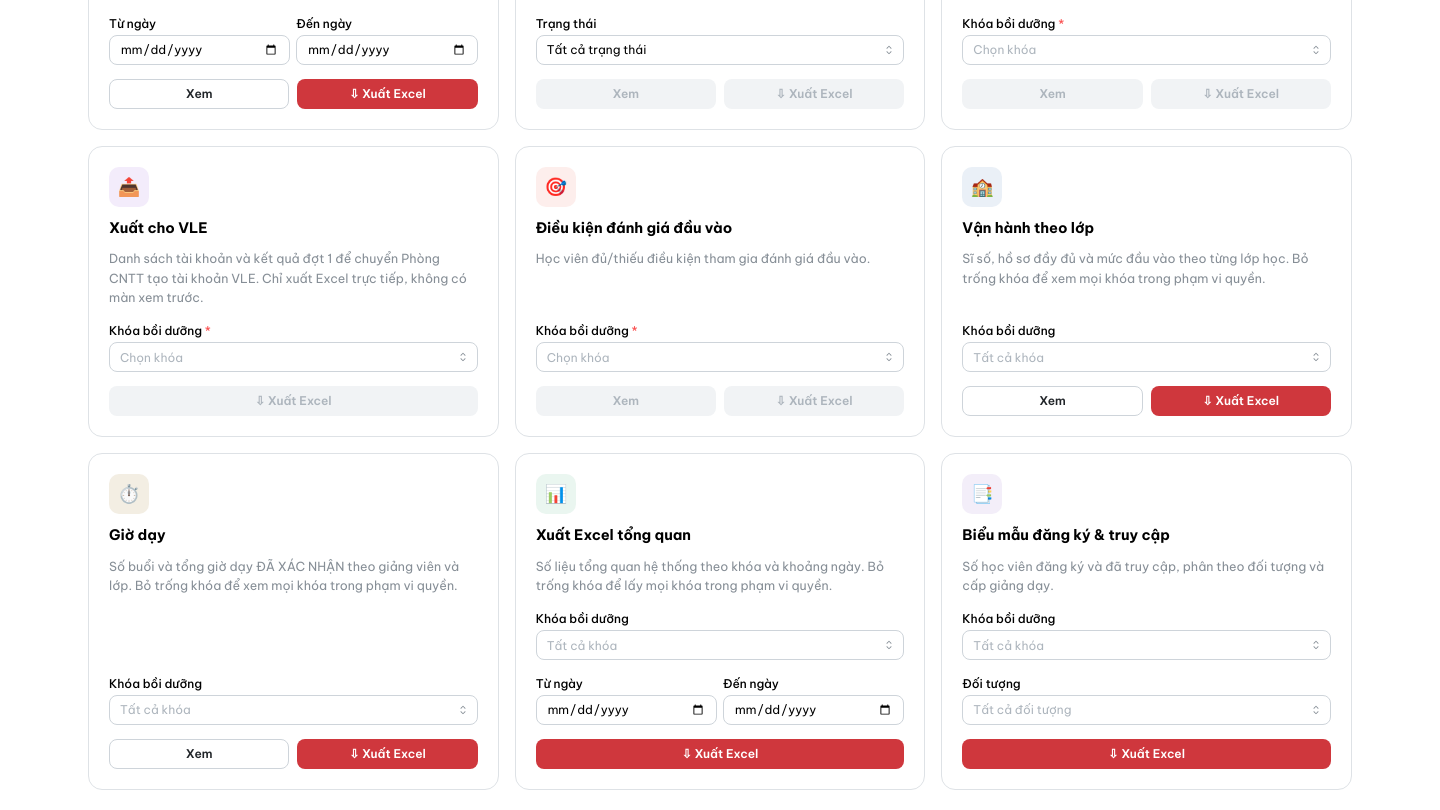
Test: Admin — Trung tâm báo cáo › giờ dạy: Xem hiện dữ liệu giảng viên × lớp
(page scrolled)
Click the 6th button "Xem".
click(199, 754)  # box [109,739,289,769]
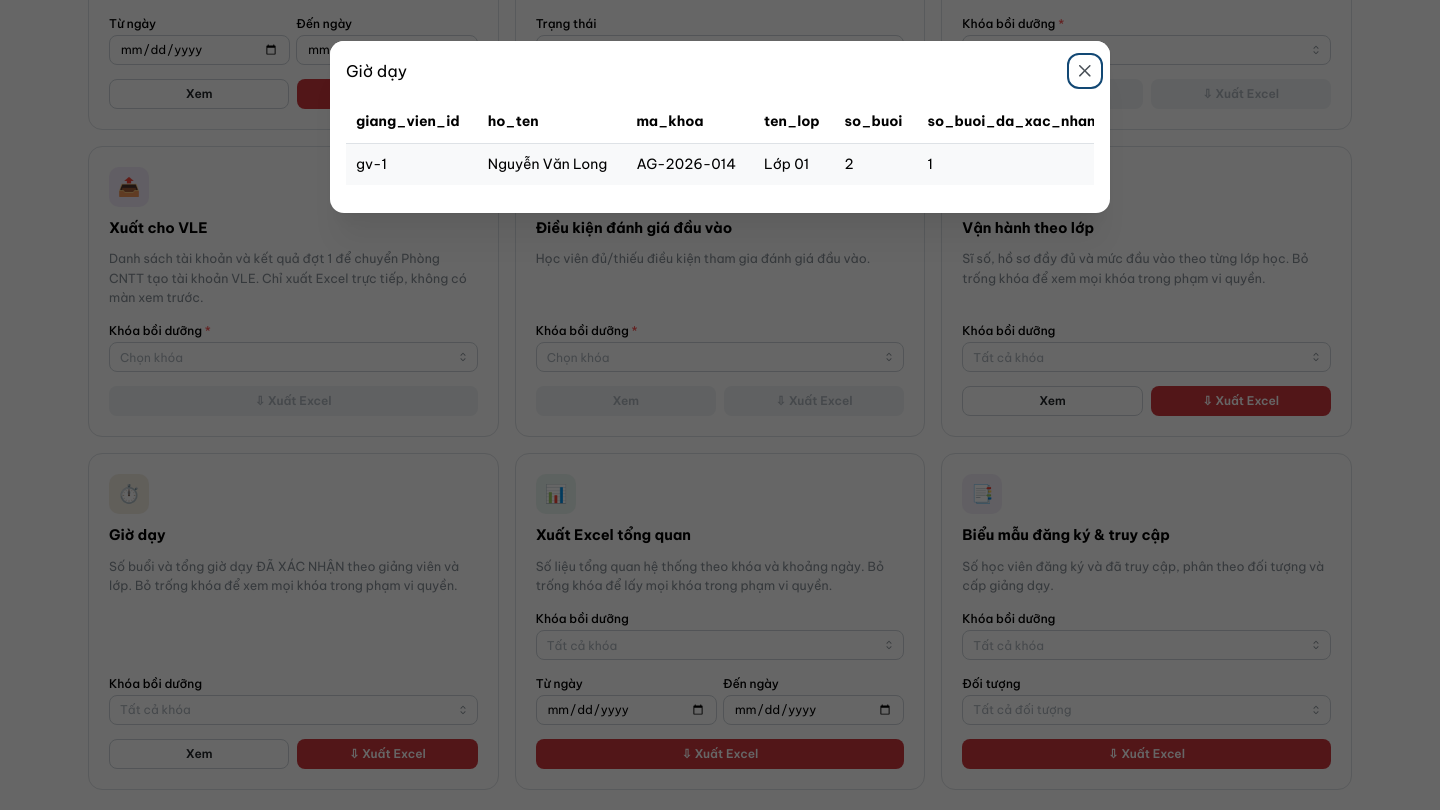
Expected: the text "Nguyễn Văn Long" is shown, [478,143,626,185]
